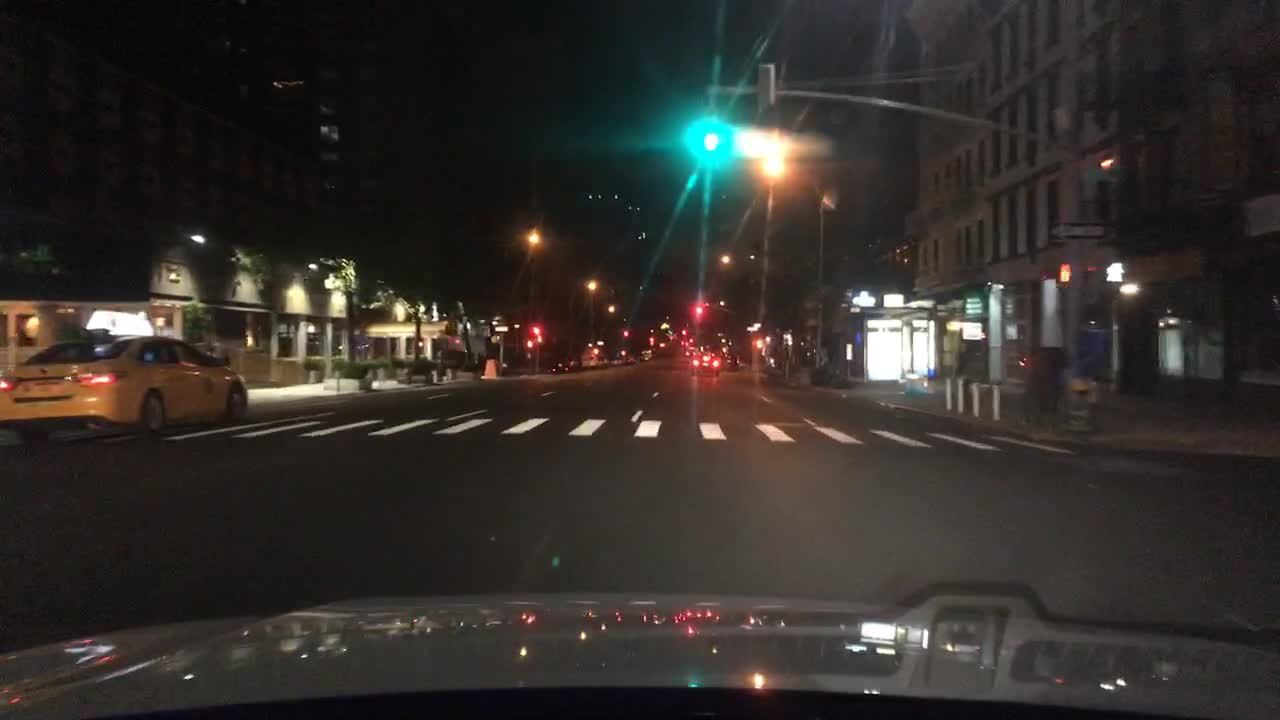car: (0, 310, 248, 439), (688, 350, 721, 377), (580, 347, 607, 368), (550, 358, 579, 374), (609, 347, 634, 365), (718, 349, 737, 370), (682, 344, 700, 356)
traffic light: (700, 94, 719, 154), (1098, 259, 1125, 285), (1053, 259, 1077, 282), (694, 303, 706, 319), (523, 337, 537, 350), (752, 337, 766, 350), (529, 321, 541, 335)
traffic sign: (1046, 219, 1109, 243), (490, 324, 508, 332)
